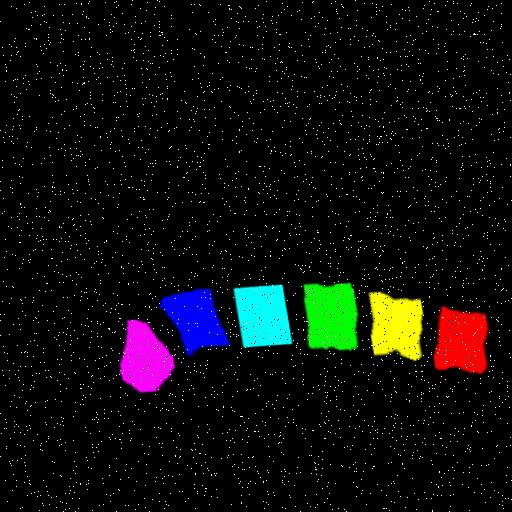L1: (430, 302, 485, 366)
L2: (367, 287, 421, 354)
L3: (300, 280, 355, 346)
L4: (231, 281, 288, 344)
L5: (158, 287, 226, 353)
S1: (117, 318, 172, 391)
